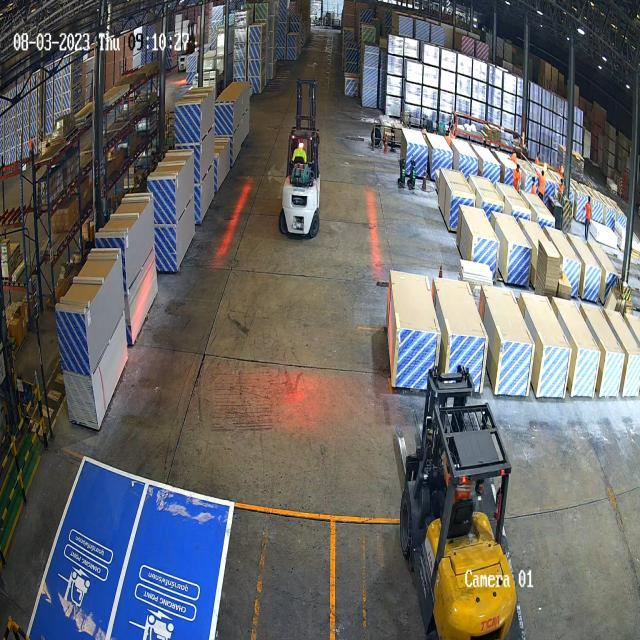driver: (442, 448, 474, 506), (294, 140, 306, 162)
forklift: (394, 367, 518, 640), (278, 71, 324, 243)
person: (584, 195, 592, 241), (512, 162, 522, 192), (538, 168, 546, 200)
